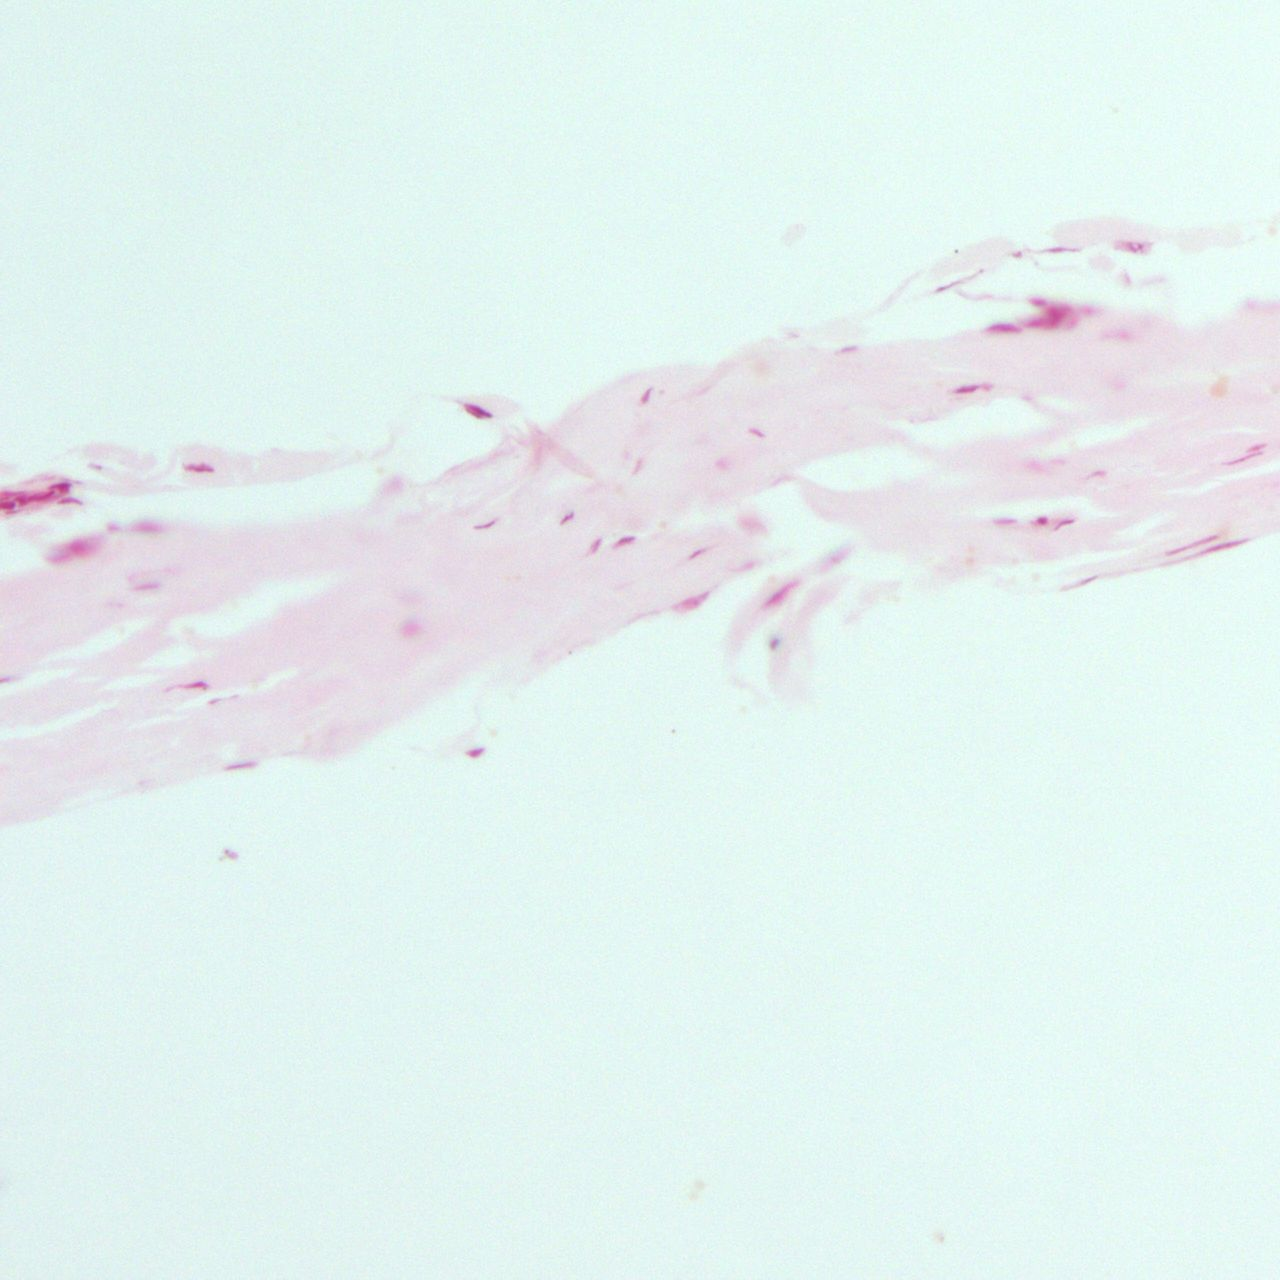dust: (952, 249, 959, 254)
nucleus-AC: (1173, 534, 1249, 566), (1159, 531, 1219, 560), (761, 575, 800, 612), (1021, 304, 1075, 328), (670, 589, 714, 615), (458, 398, 494, 423), (468, 514, 505, 535), (1063, 572, 1103, 591), (682, 542, 709, 564), (1222, 452, 1261, 467), (1050, 514, 1079, 534), (930, 278, 964, 295), (553, 508, 577, 530), (69, 538, 99, 555), (612, 532, 637, 551), (950, 383, 992, 394), (1116, 240, 1149, 254), (985, 323, 1022, 335), (583, 538, 606, 557), (170, 680, 208, 691), (637, 385, 655, 407), (749, 424, 768, 442), (130, 520, 161, 531), (465, 746, 486, 760), (182, 462, 214, 471), (223, 761, 255, 770), (992, 514, 1018, 525), (1246, 441, 1267, 454), (47, 553, 73, 563), (1042, 246, 1078, 253), (57, 496, 82, 506), (27, 492, 53, 501), (48, 482, 71, 492), (836, 344, 861, 353), (133, 583, 161, 590), (0, 489, 23, 497), (767, 637, 780, 651), (1029, 296, 1047, 306), (206, 696, 222, 707), (1034, 515, 1048, 526), (15, 496, 28, 505), (107, 524, 121, 532), (0, 501, 15, 508), (1012, 251, 1022, 258)
